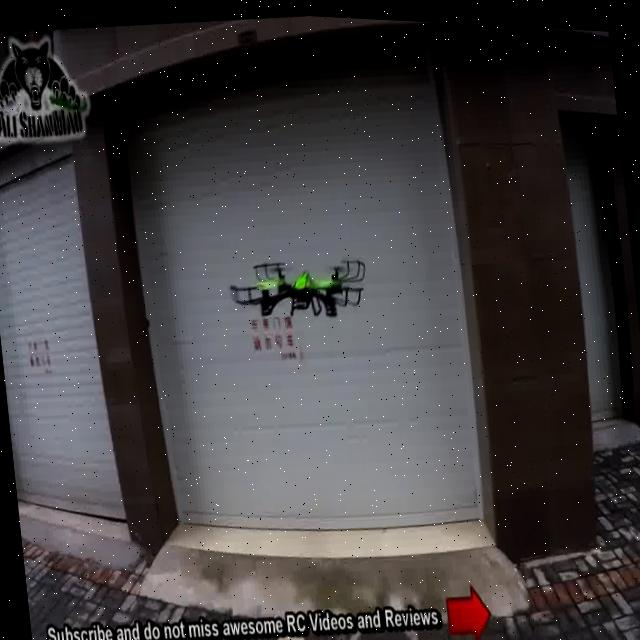drone: (238, 237, 372, 319)
